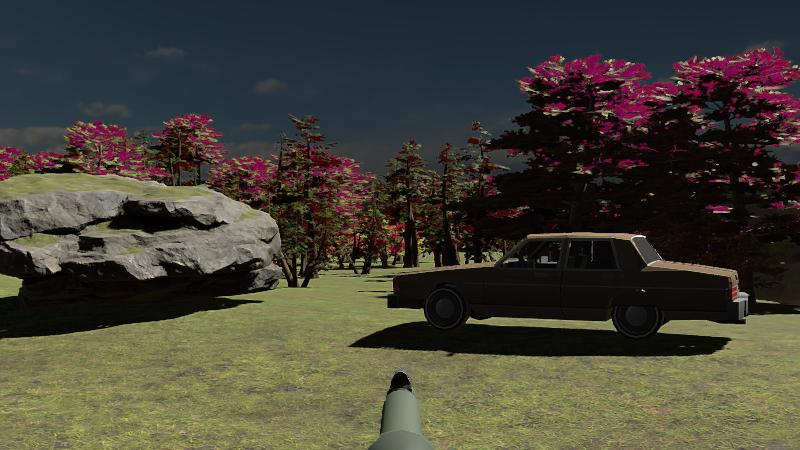car: (388, 231, 749, 339)
